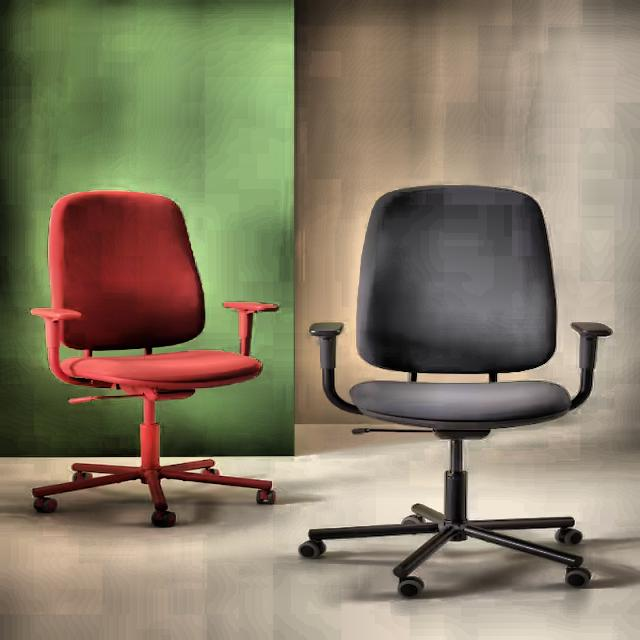cadeira: (296, 179, 616, 603), (22, 186, 290, 528)
